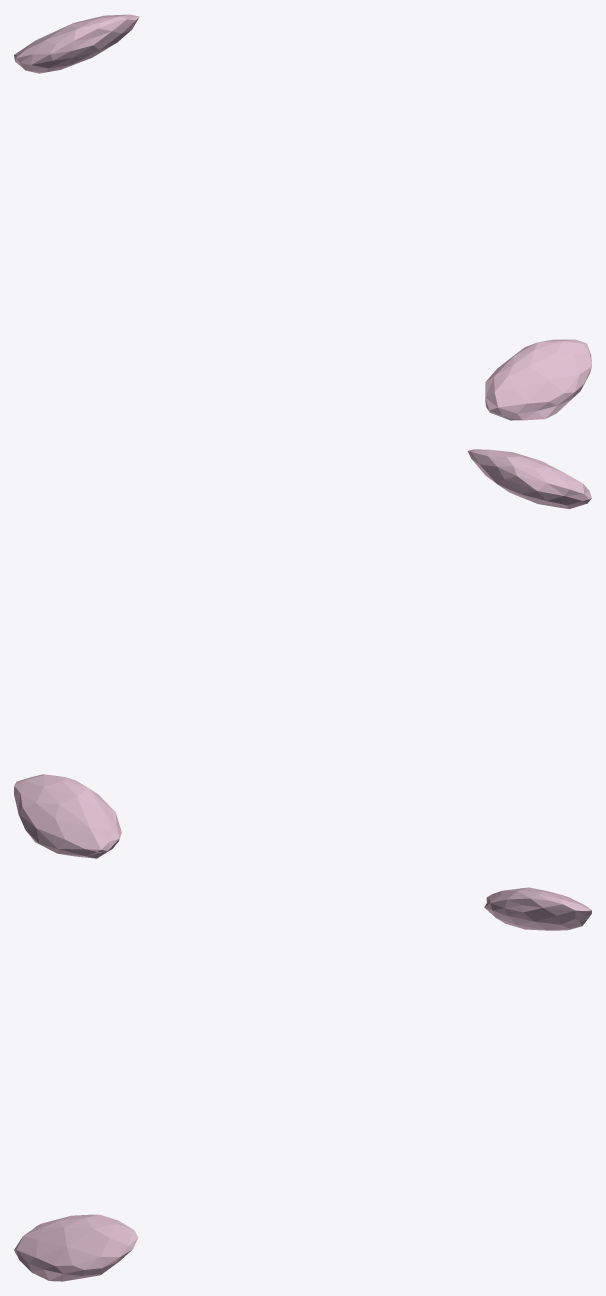
3 renders of one model, top to bottom at view 1: azimuth 30°, elevation 25°; view 2: azimuth 150°, elevation 25°; view 3: azimuth 330°, elevation 25°, orthographic.
Visible parts, largest first — view 1: 963.obj; view 2: 963.obj; view 3: 963.obj.
Part boxes in pixels (left/top/right/bottom): 963.obj: left=14, top=14, right=591, bottom=420; 963.obj: left=14, top=449, right=591, bottom=858; 963.obj: left=14, top=887, right=591, bottom=1281.
Size of the model in its own units: 502 by 235 by 3813.
